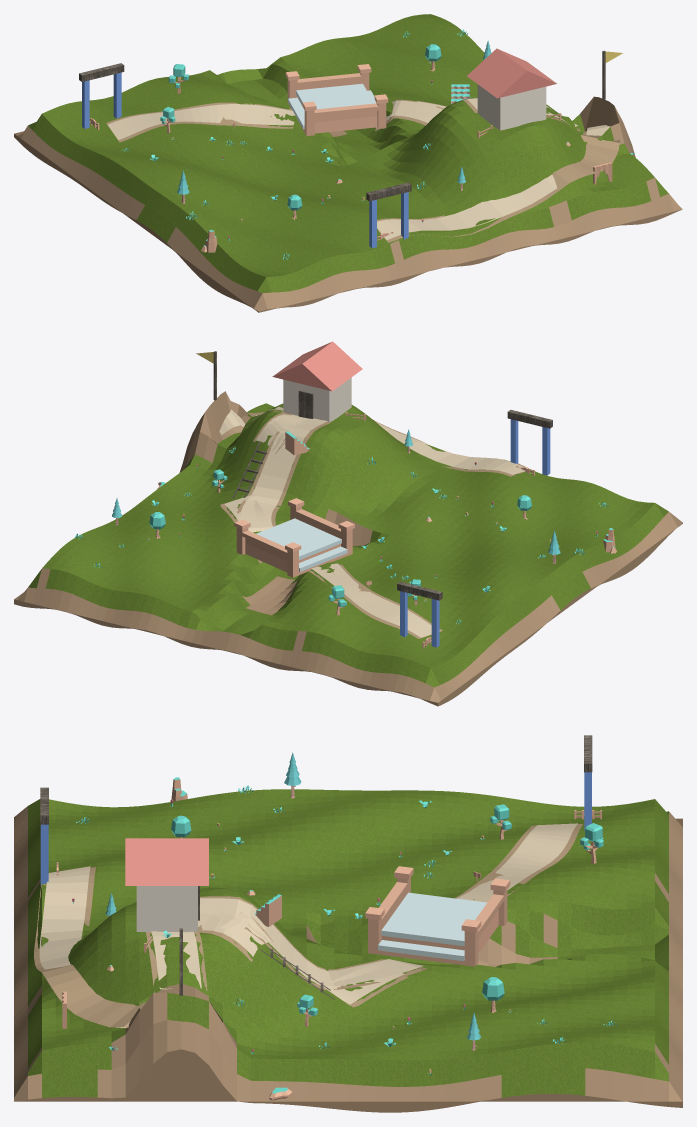
The model's file is world1_grassland.glb.
3 renders of one model, top to bottom at view 1: azimuth 30°, elevation 25°; view 2: azimuth 150°, elevation 25°; view 3: azimuth 270°, elevation 25°, orthographic. The views are drawn at different scales.
Visible parts, largest first — view 1: W1_Terrain, bridge_wood, W1_Road_7, W1_Road_0, W1_HutRoof, W1_HutBase, W1_RoadCase_7, W1_RoadCase_0, W1_Road_1, W1_ArchExit_Top; view 2: W1_Terrain, bridge_wood, W1_Road_1, W1_HutRoof, W1_Road_0, W1_Road_7, W1_HutBase, W1_RoadCase_1, W1_RoadCase_0, W1_Road_5; view 3: W1_Terrain, bridge_wood, W1_HutRoof, W1_Road_7, W1_RoadCase_7, W1_Road_1, W1_Road_0, W1_HutBase, W1_Road_6, W1_Road_5, W1_Road_2, W1_RoadCase_0 (+4 smaller).
Boxes of the visible parts, x1,y1,x2,y2 form: W1_Terrain: (14,14,682,312); bridge_wood: (285,64,388,135); W1_Road_7: (377,125,610,239); W1_Road_0: (108,104,295,139); W1_HutRoof: (467,48,556,98); W1_HutBase: (477,84,546,130); W1_RoadCase_7: (377,131,619,242); W1_RoadCase_0: (106,102,293,142); W1_Road_1: (376,98,477,127); W1_ArchExit_Top: (366,182,411,201); W1_Terrain: (14,391,682,706); bridge_wood: (234,498,354,577); W1_Road_1: (240,419,327,532); W1_HutRoof: (272,341,362,391); W1_Road_0: (311,563,440,637); W1_Road_7: (219,409,524,474); W1_HutBase: (283,377,351,421); W1_RoadCase_1: (236,421,331,526); W1_RoadCase_0: (308,564,442,638); W1_Road_5: (259,418,322,450); W1_Terrain: (14,789,682,1112); bridge_wood: (365,866,510,966); W1_HutRoof: (125,838,208,885); W1_Road_7: (39,866,126,1027); W1_RoadCase_7: (34,867,146,1027); W1_Road_1: (200,898,426,986); W1_Road_0: (457,823,577,902); W1_HutBase: (136,886,197,931); W1_Road_6: (151,931,201,989); W1_Road_5: (200,899,270,950); W1_Road_2: (323,963,404,1005); W1_RoadCase_0: (454,824,582,898).
Bounding box in the file's own units: 24.34 × 7.9 × 24.
22 materials, 2 textured.
